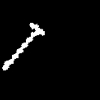half_double_crochet: (2, 23, 44, 69)
